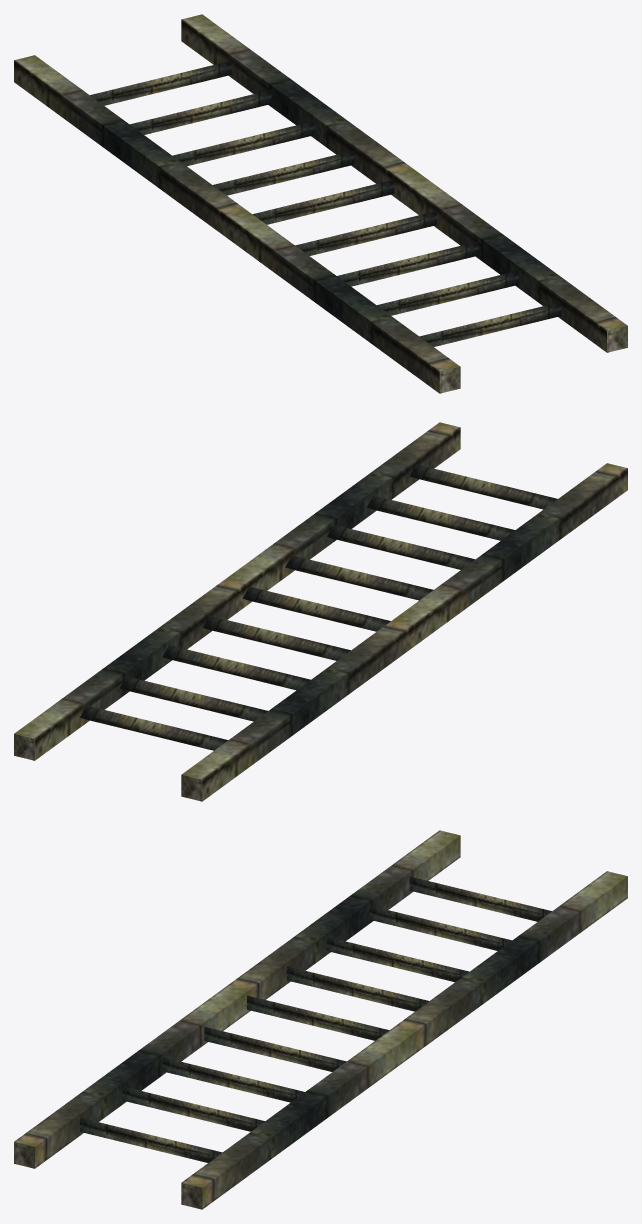
File: Stair01.glb
The picture shows the model from 3 angles, top to bottom: view 1: azimuth 30°, elevation 25°; view 2: azimuth 150°, elevation 25°; view 3: azimuth 330°, elevation 25°; orthographic projection.
Parts seen in each view (by area): view 1: model_Stair01; view 2: model_Stair01; view 3: model_Stair01.
Part boxes in pixels (<box>): model_Stair01: <box>14,14,627,393</box>; model_Stair01: <box>14,422,627,801</box>; model_Stair01: <box>14,830,627,1209</box>.
Bounding box in the file's own units: 0.8432 × 0.0938 × 3.3.
Materials: 1 (1 with a texture image).
